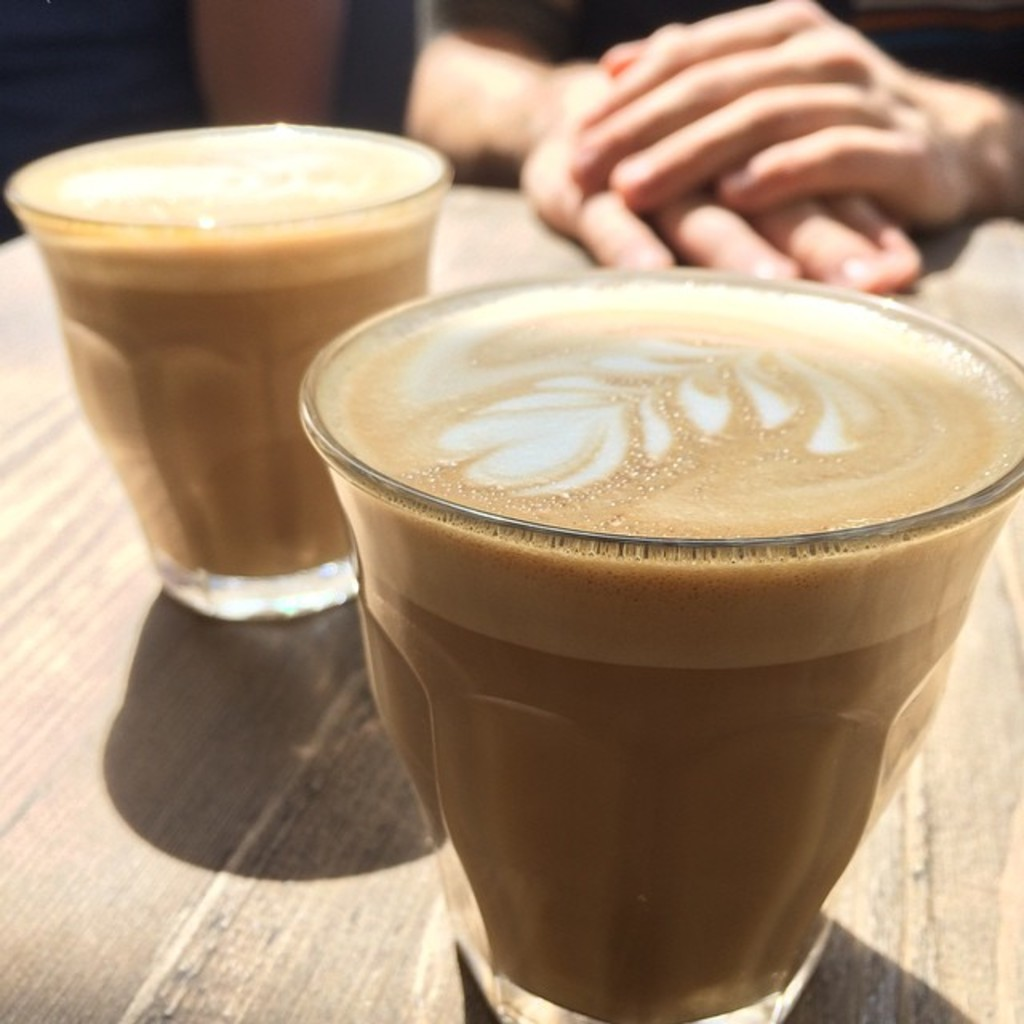Person: (399, 0, 1023, 298)
